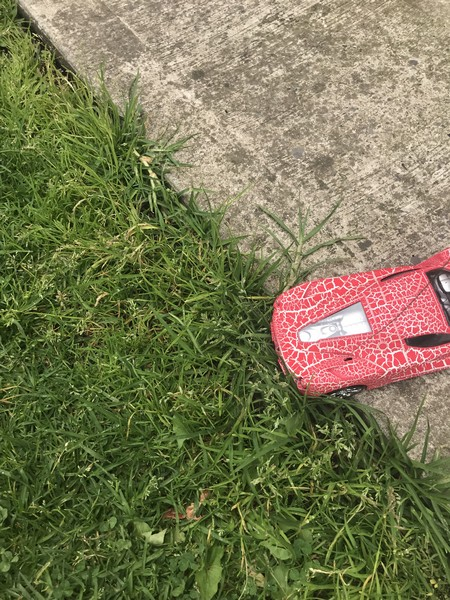RC: (271, 249, 450, 402)
